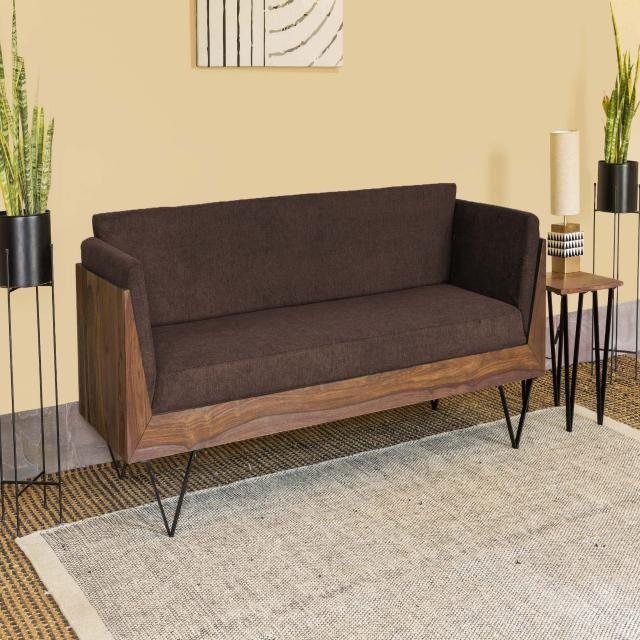sofa: (75, 180, 548, 537)
